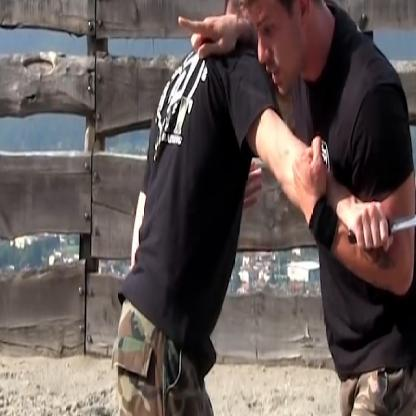knife: (342, 198, 416, 258)
